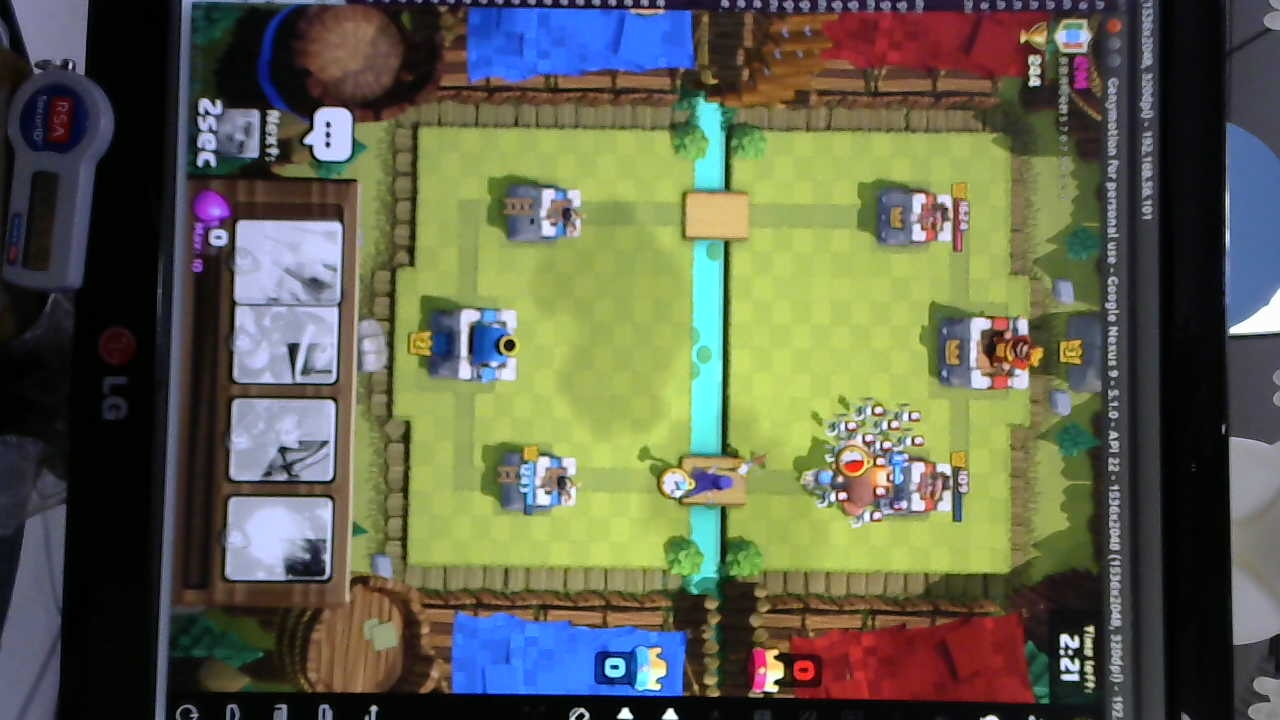arena: (501, 177, 582, 244), (503, 457, 584, 519)
bomb: (794, 462, 840, 490)
earena: (871, 186, 955, 249), (888, 459, 957, 517)
eking: (936, 310, 1039, 392)
giant: (836, 441, 881, 523)
king: (427, 302, 524, 387)
skeletonarmy: (826, 397, 932, 524)
witch: (686, 459, 753, 497)
